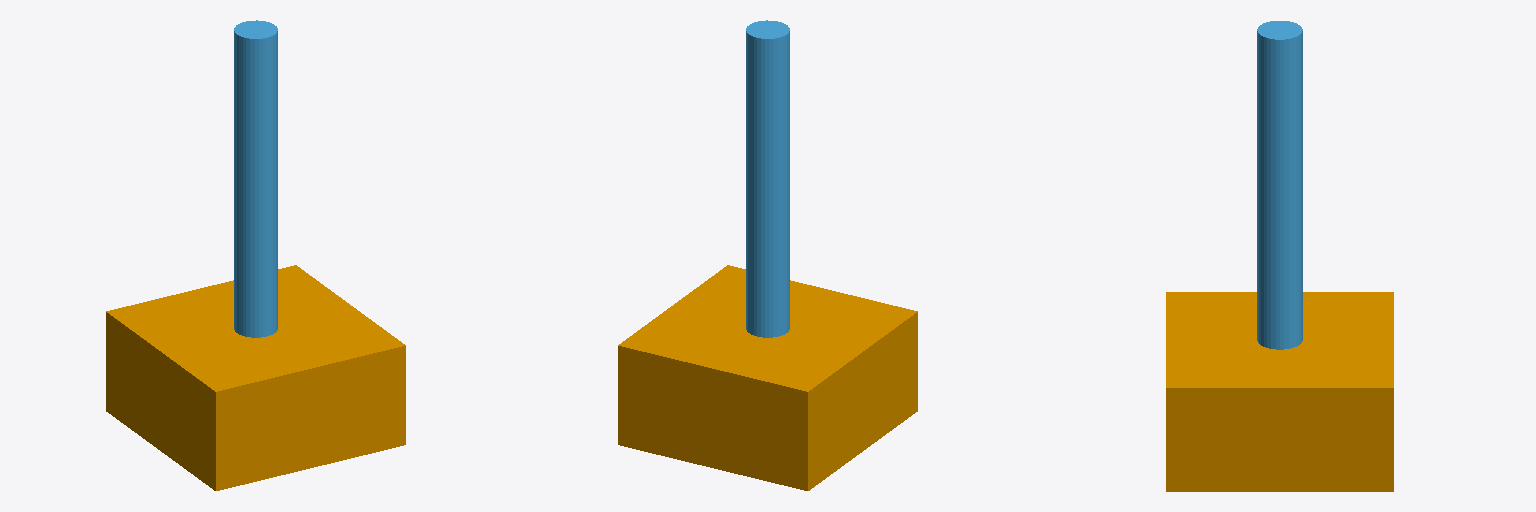
robot.urdf — pendulum:
<?xml version="1.0"?>
<!-- Checkpoint 1: base_link (a box) + arm (a cylinder), revolute about y, +-90 deg.
     Plain URDF has no ${radians(90)}, so the limit is written out: 1.5708 rad. -->
<robot name="pendulum">

  <!-- Root link: no <inertial> (KDL warns about an inertial on the root). -->
  <link name="base_link">
    <visual>
      <origin xyz="0 0 0.05"/>
      <geometry><box size="0.2 0.2 0.1"/></geometry>
    </visual>
    <collision>
      <origin xyz="0 0 0.05"/>
      <geometry><box size="0.2 0.2 0.1"/></geometry>
    </collision>
  </link>

  <!-- The joint origin puts the pivot on top of the box. -->
  <joint name="swing" type="revolute">
    <parent link="base_link"/>
    <child link="arm"/>
    <origin xyz="0 0 0.1" rpy="0 0 0"/>
    <axis xyz="0 1 0"/>
    <limit lower="-1.5708" upper="1.5708" effort="5.0" velocity="1.0"/>
  </joint>

  <!-- The visual origin slides the cylinder up its own z, so it hangs from the pivot
       instead of being centred on it. -->
  <link name="arm">
    <visual>
      <origin xyz="0 0 0.15"/>
      <geometry><cylinder radius="0.02" length="0.3"/></geometry>
    </visual>
    <collision>
      <origin xyz="0 0 0.15"/>
      <geometry><cylinder radius="0.02" length="0.3"/></geometry>
    </collision>
    <!-- Solid cylinder, m = 0.2 kg: ixx = iyy = m(3r^2 + l^2)/12, izz = m r^2 / 2 -->
    <inertial>
      <origin xyz="0 0 0.15"/>
      <mass value="0.2"/>
      <inertia ixx="0.00152" ixy="0" ixz="0" iyy="0.00152" iyz="0" izz="0.00004"/>
    </inertial>
  </link>

</robot>

--- Facts derived from the render (not from the file) ---
Views: 3 orthographic renders of the robot side by side, from view 1: azimuth 30°, elevation 25°; view 2: azimuth 150°, elevation 25°; view 3: azimuth 270°, elevation 25°.
Robot: pendulum — 2 links, 1 joints (1 revolute); root link base_link; default pose: all joints at 0.
Visible links, largest first — view 1: base_link, arm; view 2: base_link, arm; view 3: base_link, arm.
Boxes of the visible links, bbox=[...] form: base_link: bbox=[106, 265, 405, 490]; arm: bbox=[234, 20, 277, 337]; base_link: bbox=[618, 265, 917, 490]; arm: bbox=[746, 20, 789, 337]; base_link: bbox=[1166, 292, 1393, 491]; arm: bbox=[1257, 21, 1302, 349].
Size in the robot's own frame: 0.2 by 0.2 by 0.4 metres.
Geometry: primitives only (box / cylinder / sphere), no mesh files.
